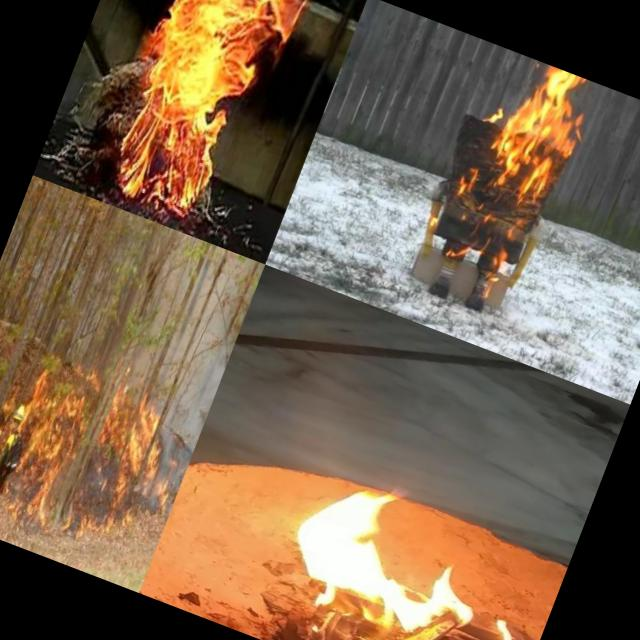fire: (258, 421, 545, 640), (90, 0, 312, 234), (0, 341, 205, 569), (427, 49, 607, 288)
